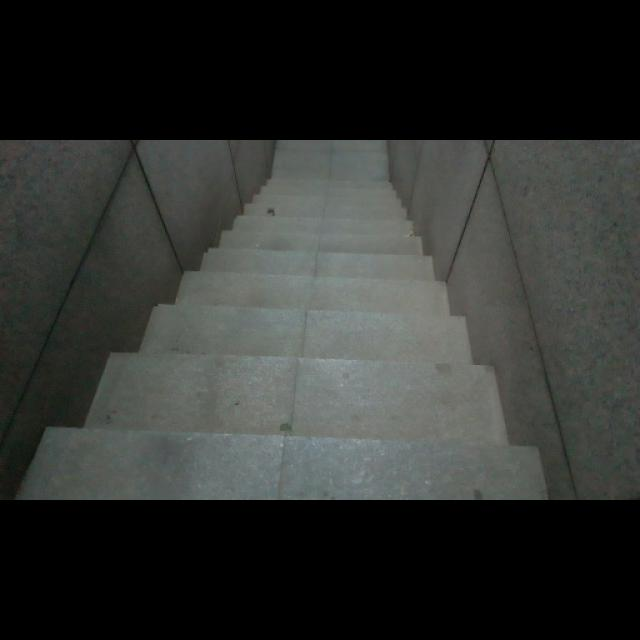stair: (182, 152, 514, 493)
